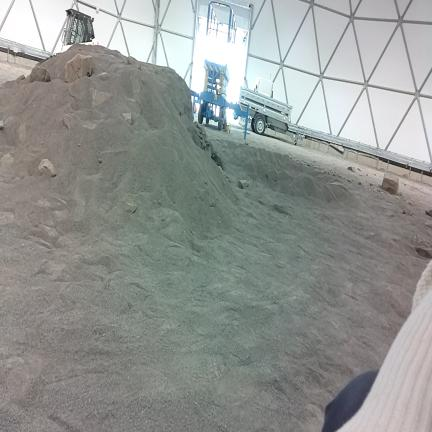Rock: (65, 54, 92, 82), (69, 77, 92, 105), (412, 235, 431, 258), (90, 88, 111, 106), (382, 173, 398, 194), (39, 159, 56, 177), (31, 67, 50, 82), (415, 244, 431, 258), (0, 153, 13, 170), (64, 114, 78, 129), (131, 71, 140, 94), (212, 152, 223, 170), (123, 200, 136, 213), (18, 123, 26, 141), (267, 170, 279, 181), (122, 113, 132, 124), (64, 114, 71, 129), (126, 56, 138, 64), (238, 180, 248, 188), (99, 72, 109, 80), (331, 182, 344, 187), (403, 207, 411, 215), (209, 196, 215, 206), (16, 75, 25, 81), (425, 222, 431, 228), (348, 167, 355, 172), (139, 64, 145, 69), (426, 210, 431, 216), (0, 121, 3, 130), (98, 158, 102, 163), (358, 182, 362, 186), (307, 163, 311, 167), (408, 202, 412, 206), (347, 179, 352, 182), (369, 183, 373, 186), (357, 168, 361, 171), (78, 142, 81, 146), (359, 174, 362, 176), (366, 174, 368, 176)
